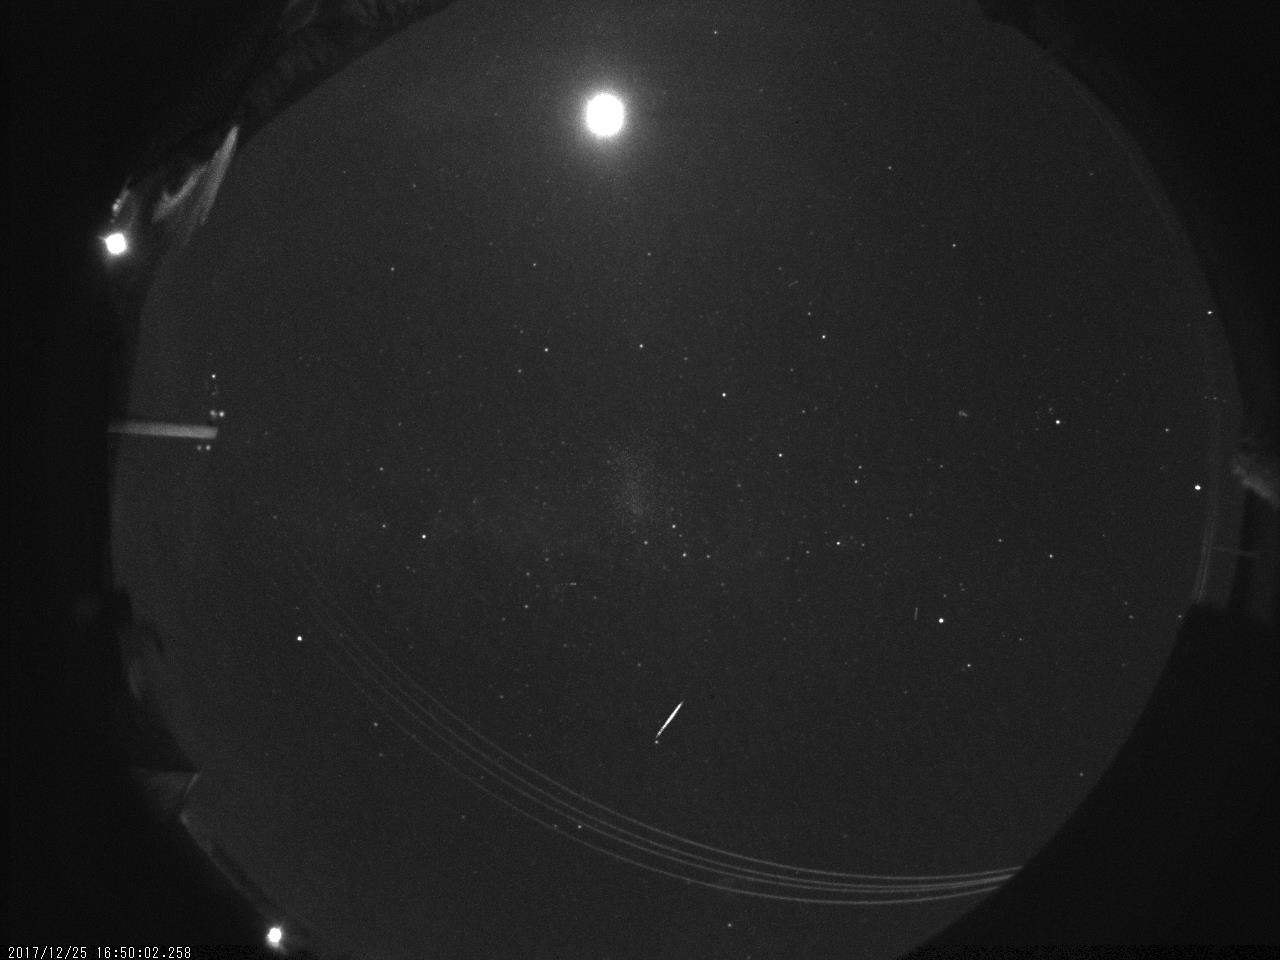meteor: (641, 687, 696, 750)
